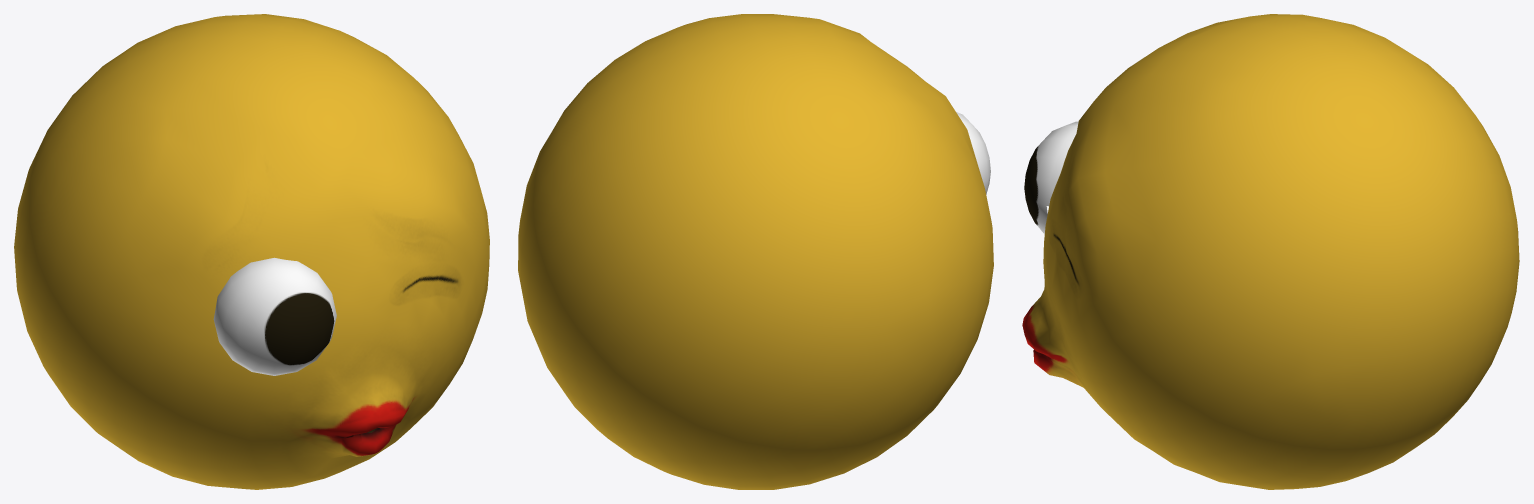
File: emoji_kiss.fbx
The picture shows the model from 3 angles, left to right: view 1: azimuth 30°, elevation 25°; view 2: azimuth 150°, elevation 25°; view 3: azimuth 270°, elevation 25°; orthographic projection.
Visible parts, largest first — view 1: polySurface9; view 2: polySurface9; view 3: polySurface9.
Part boxes in pixels (x1,y1,x2,y2): polySurface9: [14, 14, 489, 489]; polySurface9: [518, 14, 993, 489]; polySurface9: [1022, 14, 1519, 489].
Bounding box in the file's own units: 0.9929 × 0.9931 × 1.04.
Materials: 1 (1 with a texture image).
